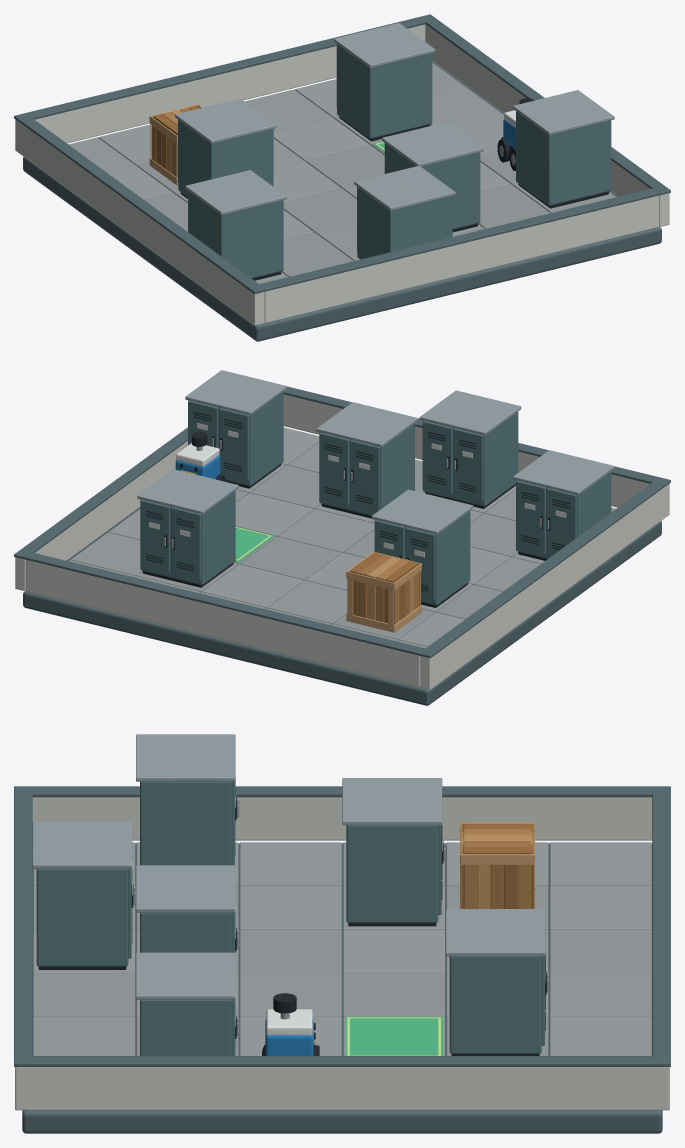
The picture shows the model from 3 angles, top to bottom: view 1: azimuth 30°, elevation 25°; view 2: azimuth 150°, elevation 25°; view 3: azimuth 270°, elevation 25°; orthographic projection. The views are drawn at different scales.
Visible parts, largest first — view 1: Cutaway wall.002, Floor foundation, obstacle_4, obstacle_5, Cutaway wall.003, obstacle_0, Cutaway wall, obstacle_2, obstacle_1, obstacle_3, Cutaway wall.001, Wall coping.002 (+25 smaller); view 2: Cutaway wall.003, Floor foundation, obstacle_4, obstacle_2, obstacle_3, obstacle_5, obstacle_0, Cutaway wall, obstacle_1, crate, Cutaway wall.001, Wall coping.003 (+24 smaller); view 3: Cutaway wall.001, Floor foundation, Cutaway wall, obstacle_2, obstacle_1, obstacle_4, obstacle_0, obstacle_5, obstacle_3, Wall coping.001, crate, Wall coping (+22 smaller).
Boxes of the visible parts, x1=… form: Cutaway wall.002: x1=264, y1=195, x2=659, y2=323; Floor foundation: x1=23, y1=61, x2=661, y2=341; obstacle_4: x1=334, y1=23, x2=435, y2=141; obstacle_5: x1=513, y1=90, x2=614, y2=208; Cutaway wall.003: x1=35, y1=24, x2=425, y2=143; obstacle_0: x1=185, y1=170, x2=286, y2=280; Cutaway wall: x1=15, y1=119, x2=264, y2=325; obstacle_2: x1=354, y1=165, x2=455, y2=259; obstacle_1: x1=175, y1=98, x2=276, y2=198; obstacle_3: x1=382, y1=122, x2=483, y2=232; Cutaway wall.001: x1=425, y1=24, x2=669, y2=226; Wall coping.002: x1=259, y1=188, x2=660, y2=291; Cutaway wall.003: x1=25, y1=560, x2=420, y2=687; Floor foundation: x1=23, y1=507, x2=661, y2=705; obstacle_4: x1=137, y1=469, x2=238, y2=587; obstacle_2: x1=419, y1=390, x2=521, y2=508; obstacle_3: x1=316, y1=402, x2=417, y2=518; obstacle_5: x1=185, y1=370, x2=286, y2=488; obstacle_0: x1=513, y1=450, x2=614, y2=560; Cutaway wall: x1=420, y1=483, x2=669, y2=689; obstacle_1: x1=371, y1=489, x2=473, y2=607; crate: x1=346, y1=551, x2=421, y2=632; Cutaway wall.001: x1=15, y1=441, x2=187, y2=590; Wall coping.003: x1=24, y1=552, x2=425, y2=655; Cutaway wall.001: x1=15, y1=1067, x2=669, y2=1110; Floor foundation: x1=22, y1=843, x2=662, y2=1133; Cutaway wall: x1=32, y1=797, x2=652, y2=840; obstacle_2: x1=32, y1=821, x2=135, y2=969; obstacle_1: x1=342, y1=778, x2=445, y2=926; obstacle_4: x1=445, y1=909, x2=548, y2=1055; obstacle_0: x1=136, y1=734, x2=239, y2=865; obstacle_5: x1=136, y1=952, x2=239, y2=1055; obstacle_3: x1=136, y1=865, x2=239, y2=952; Wall coping.001: x1=14, y1=1056, x2=670, y2=1066; crate: x1=459, y1=822, x2=535, y2=908; Wall coping: x1=14, y1=786, x2=670, y2=797.
Size of the model in its own units: 6.36 by 1.44 by 6.36.
